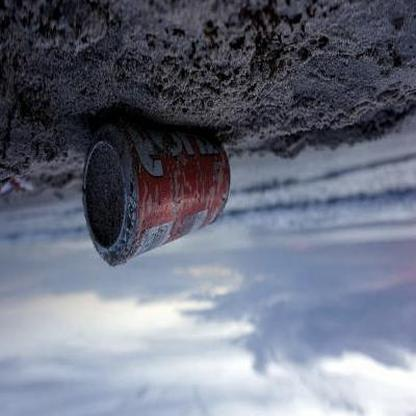can: (83, 129, 231, 267)
